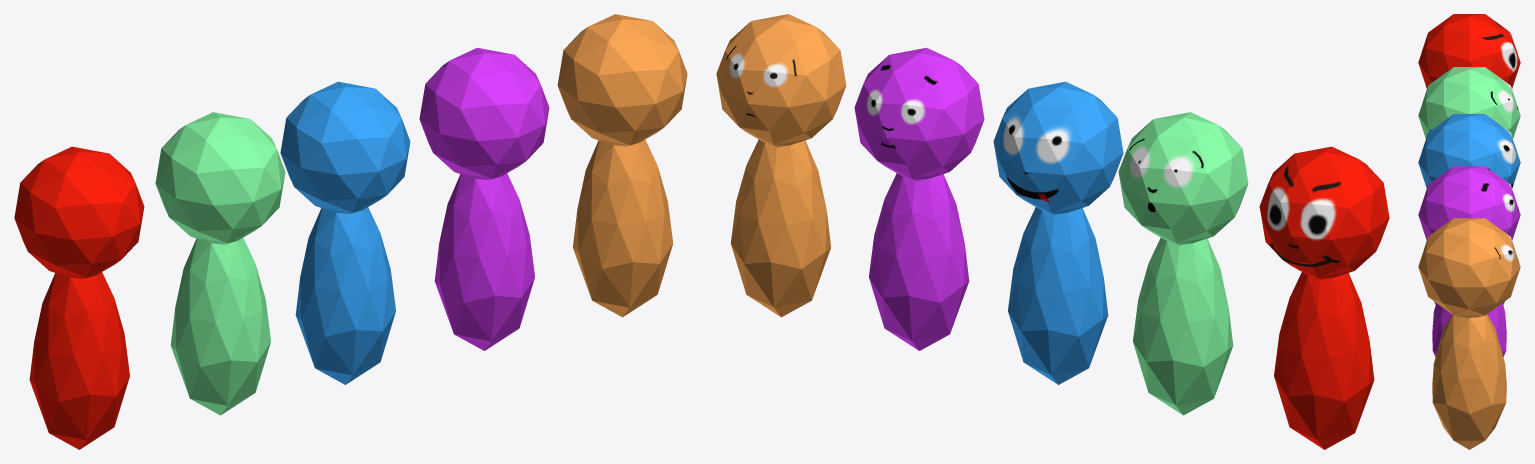
The model's file is characters.fbx.
3 views of the same model, side by side, from view 1: azimuth 30°, elevation 25°; view 2: azimuth 150°, elevation 25°; view 3: azimuth 270°, elevation 25° (orthographic). The views are drawn at different scales.
Parts seen in each view (by area): view 1: Icosphere.001, Icosphere.004, Icosphere.002, Icosphere.003, Icosphere; view 2: Icosphere.001, Icosphere.004, Icosphere.002, Icosphere.003, Icosphere; view 3: Icosphere, Icosphere.001, Icosphere.004, Icosphere.002, Icosphere.003.
Part boxes in pixels (<box>): Icosphere.001: <box>419,47,549,350</box>; Icosphere.004: <box>14,146,144,449</box>; Icosphere.002: <box>280,81,410,384</box>; Icosphere.003: <box>155,112,285,415</box>; Icosphere: <box>557,14,687,317</box>; Icosphere.001: <box>854,47,984,350</box>; Icosphere.004: <box>1259,146,1389,449</box>; Icosphere.002: <box>993,81,1123,384</box>; Icosphere.003: <box>1118,112,1248,415</box>; Icosphere: <box>716,14,846,317</box>; Icosphere: <box>1418,218,1520,449</box>; Icosphere.001: <box>1418,166,1520,356</box>; Icosphere.004: <box>1418,14,1520,88</box>; Icosphere.002: <box>1418,114,1520,304</box>; Icosphere.003: <box>1418,67,1520,138</box>.
Size of the model in its own units: 720 by 314 by 127.
Materials: 5 (5 with a texture image).
